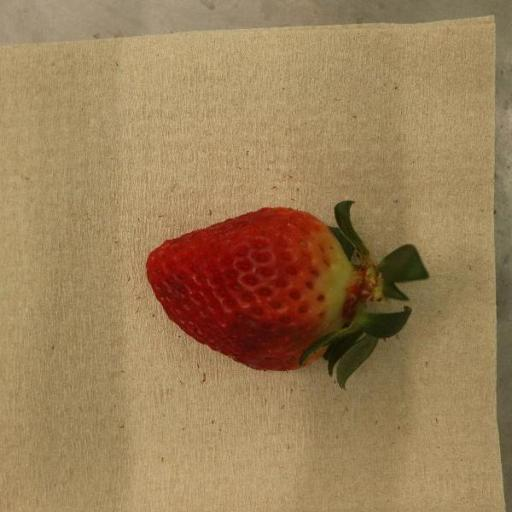Strawberry: (146, 201, 430, 389)
